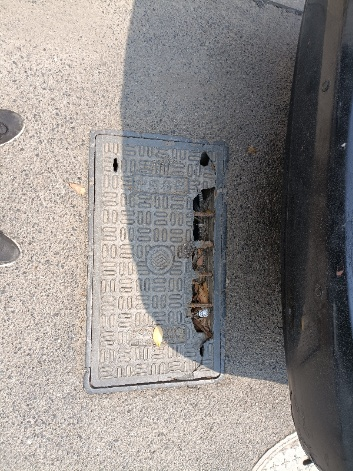broke: (88, 130, 232, 391)
